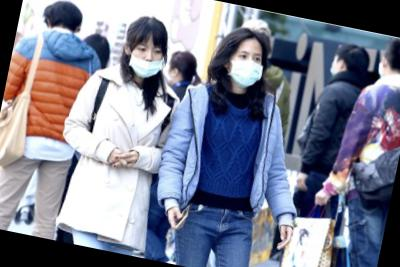mask_weared_incorrect: (124, 39, 168, 82)
with_mask: (226, 45, 268, 93)
